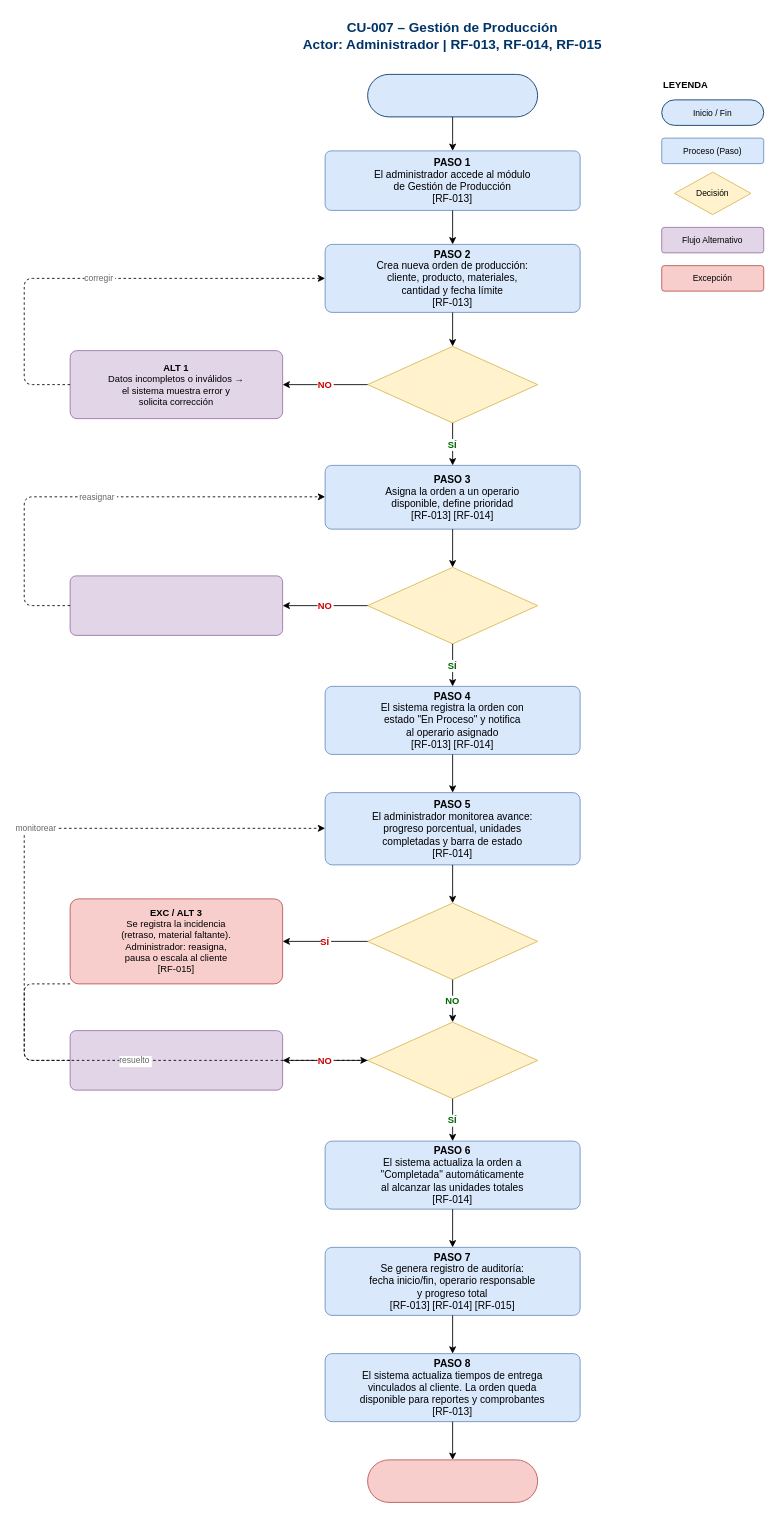
The diagram is 779 pixels wide and 1517 high, and some of its shapes have lost their labels. The box of each missing label's shape, as (x1, y1, x2, y2) in pixels:
ALT 2 Reasignar a otro operario o dejar en estado Pendiente: (69, 575, 283, 635)
ALT 4 Continúa ciclo de monitoreo → regresa al Paso 5: (69, 1030, 283, 1090)
FIN: (367, 1459, 538, 1502)
INICIO: (367, 74, 538, 117)
¿Datos de la orden válidos?: (367, 346, 538, 423)
¿Operario disponible?: (367, 567, 538, 644)
¿Orden completada?: (367, 1021, 538, 1099)
¿Se reporta alguna incidencia?: (367, 902, 538, 980)
